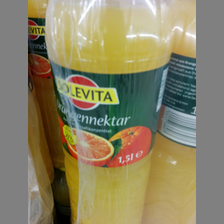juice: (43, 1, 174, 223)
